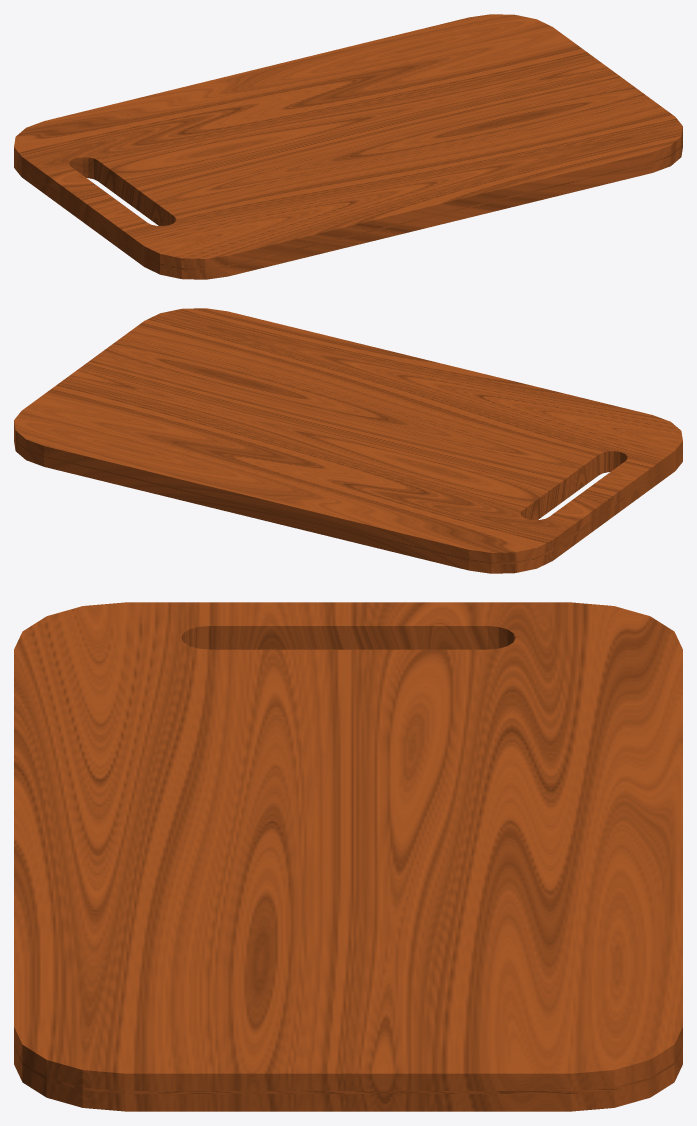
The model's file is cutting-board.fbx.
The picture shows the model from 3 angles, top to bottom: view 1: azimuth 30°, elevation 25°; view 2: azimuth 150°, elevation 25°; view 3: azimuth 270°, elevation 25°; orthographic projection. The views are drawn at different scales.
Parts seen in each view (by area): view 1: Board; view 2: Board; view 3: Board.
Part boxes in pixels (x1,y1,x2,y2): Board: [14, 14, 682, 279]; Board: [14, 308, 682, 573]; Board: [14, 602, 682, 1111].
Size of the model in its own units: 200 by 7.5 by 120.
1 material, 1 textured.
